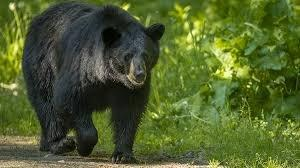bear: (23, 2, 166, 164)
